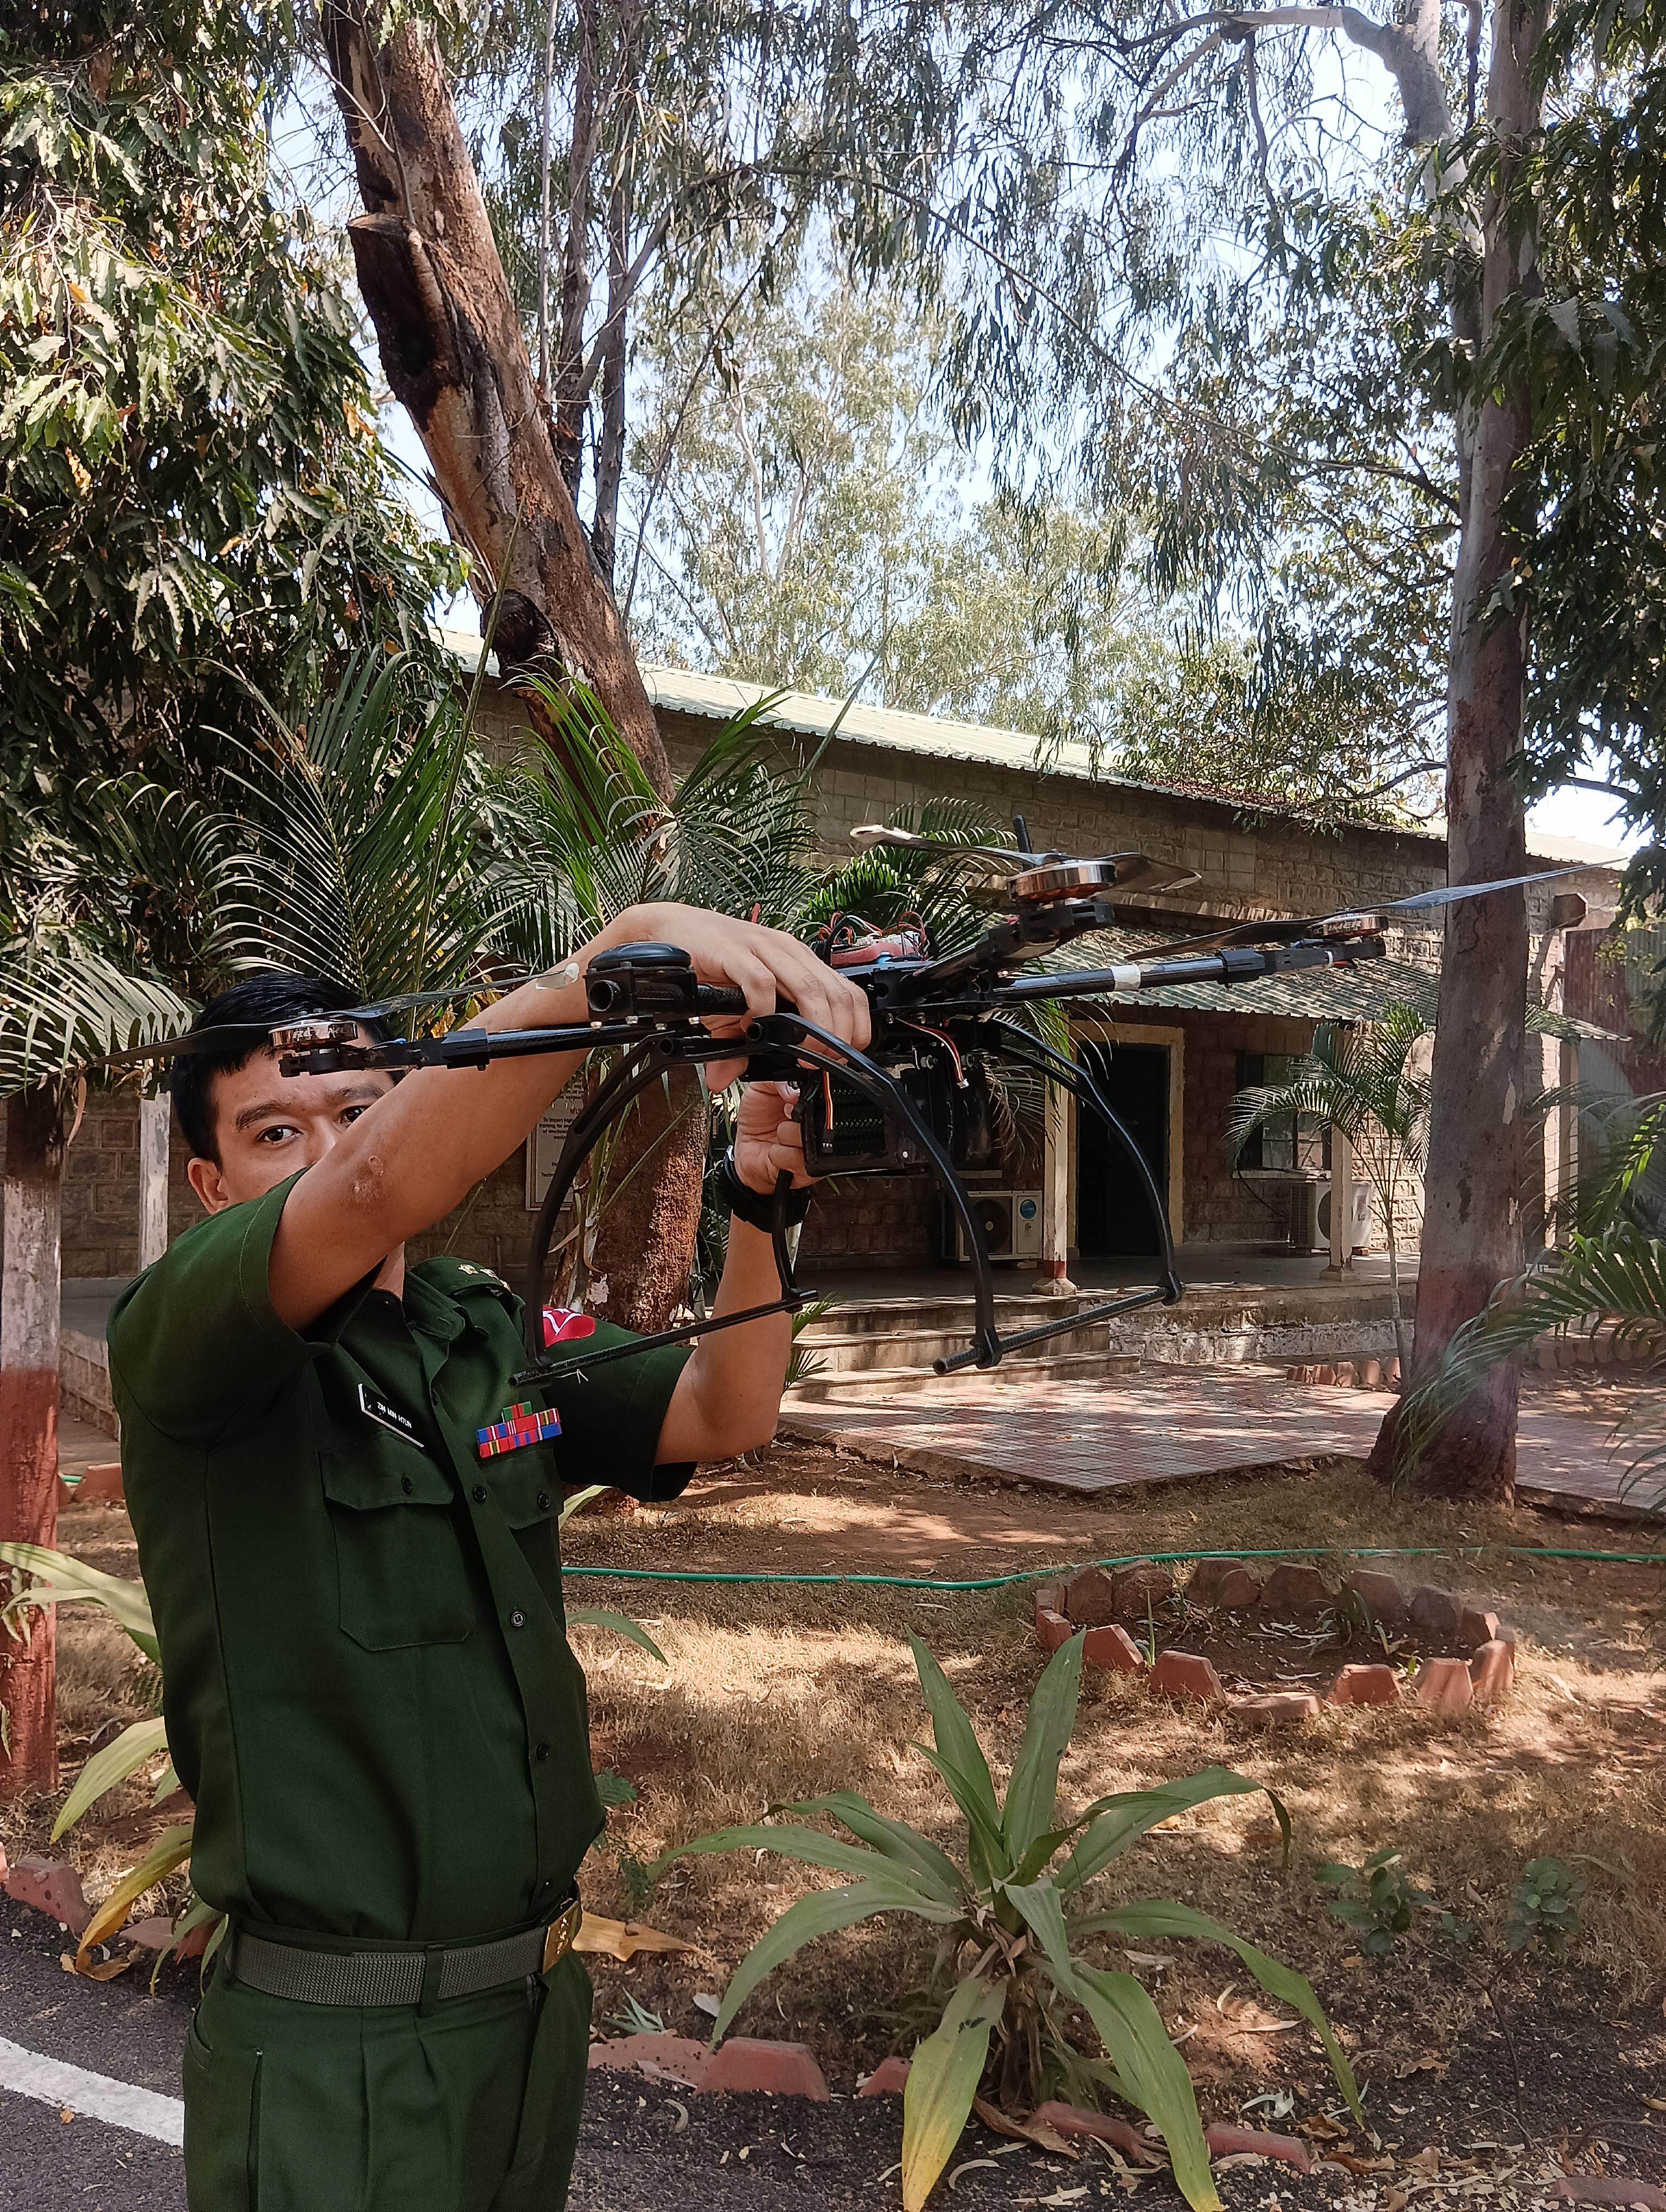drone: (261, 733, 1619, 1448)
